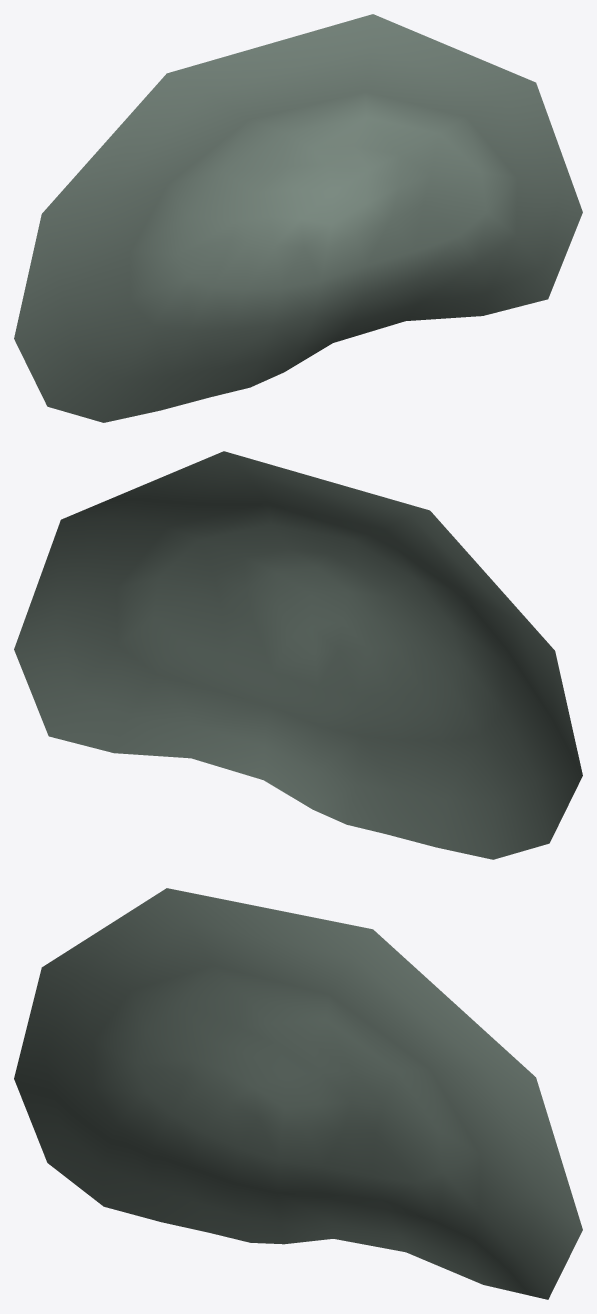
The model's file is Swamp_SandbarB.glb.
The picture shows the model from 3 angles, top to bottom: view 1: azimuth 30°, elevation 25°; view 2: azimuth 150°, elevation 25°; view 3: azimuth 330°, elevation 25°; orthographic projection.
Visible parts, largest first — view 1: MeshNode_0; view 2: MeshNode_0; view 3: MeshNode_0.
Part boxes in pixels (x1,y1,x2,y2): MeshNode_0: (14, 14, 582, 422); MeshNode_0: (14, 451, 582, 859); MeshNode_0: (14, 888, 582, 1299).
Size of the model in its own units: 81.39 by 47.11 by 6.02.
